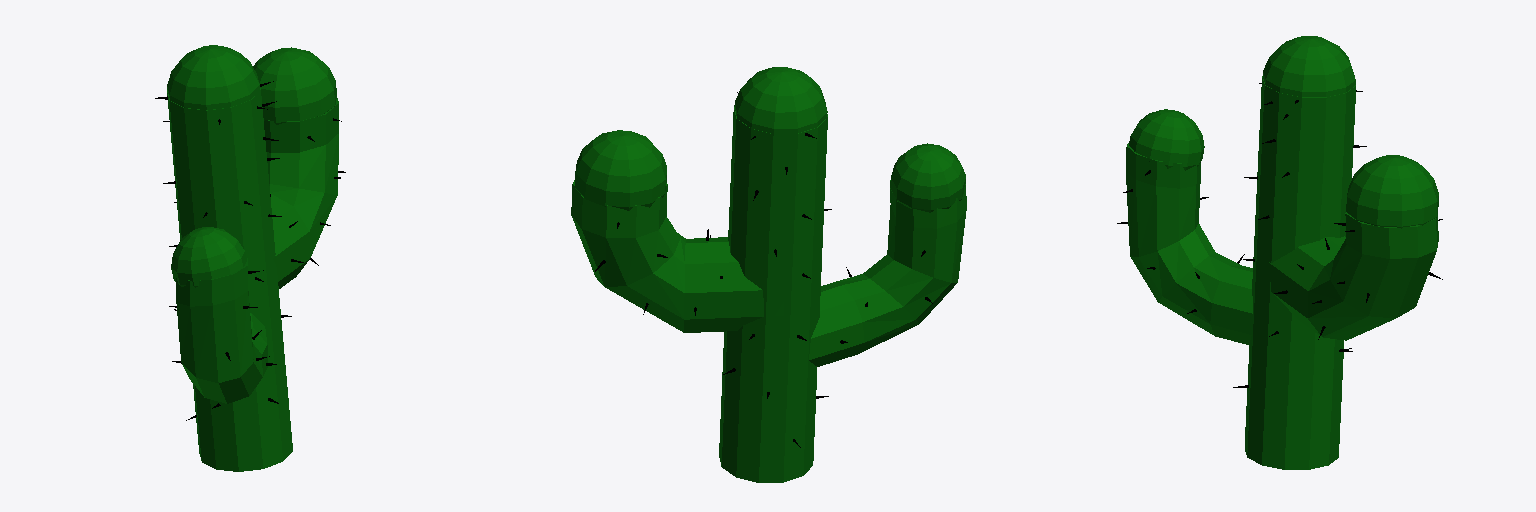
3 renders of one model, left to right at view 1: azimuth 30°, elevation 25°; view 2: azimuth 150°, elevation 25°; view 3: azimuth 270°, elevation 25°, orthographic.
Parts seen in each view (by area): view 1: group[number redacted]; view 2: group[number redacted]; view 3: group[number redacted].
Part boxes in pixels (bbox=[...]): group[number redacted]: bbox=[155, 45, 345, 471]; group[number redacted]: bbox=[571, 67, 966, 482]; group[number redacted]: bbox=[1117, 36, 1442, 469].
Bounding box in the file's own units: 0.3306 × 0.468 × 0.3463.